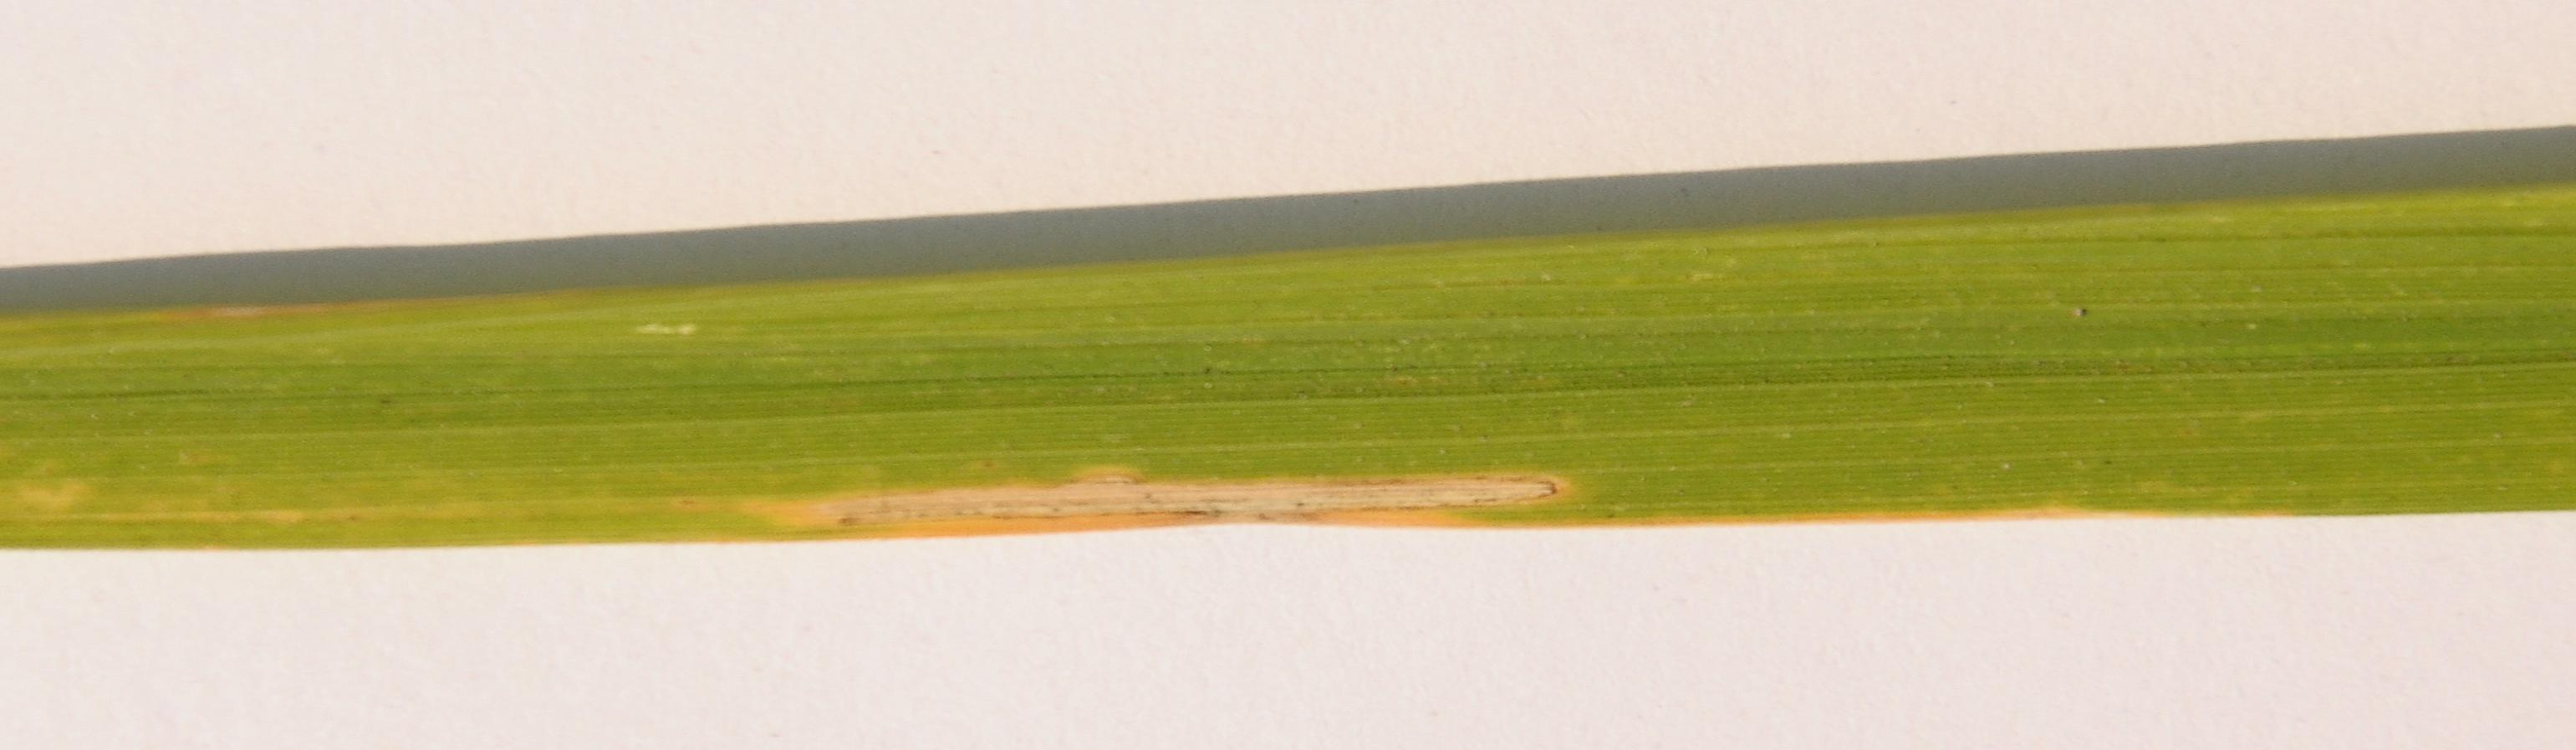bacterial_leaf_blight: (733, 448, 1582, 538)
